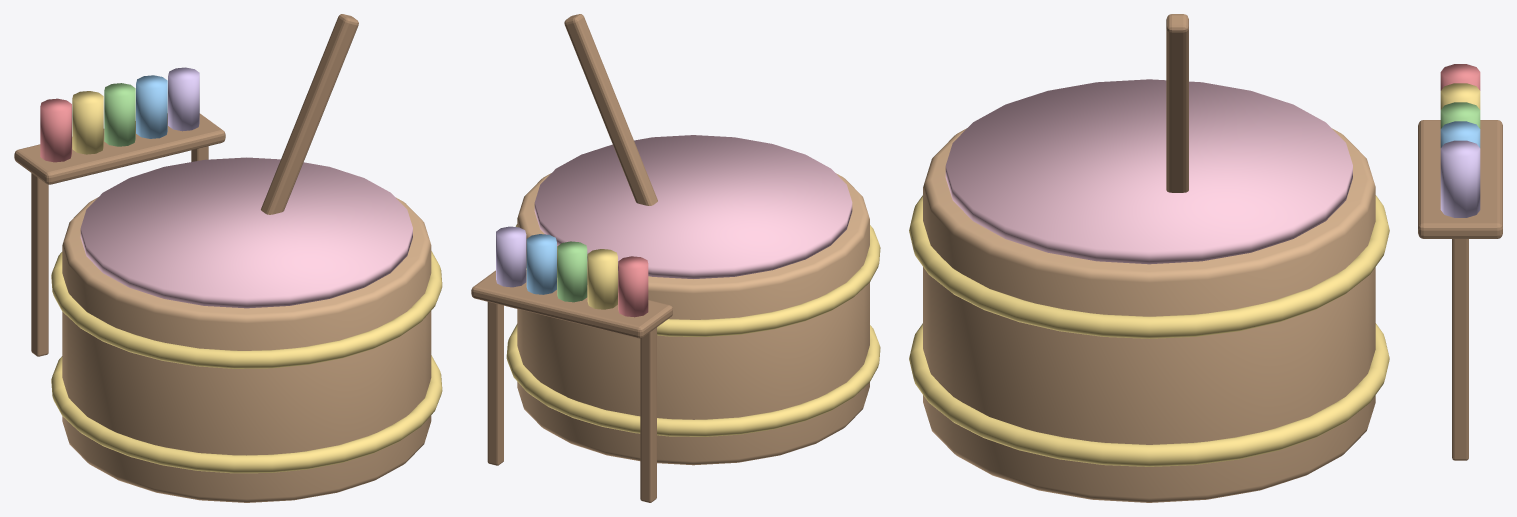
File: dye_vat.glb
The picture shows the model from 3 angles, left to right: view 1: azimuth 30°, elevation 25°; view 2: azimuth 150°, elevation 25°; view 3: azimuth 270°, elevation 25°; orthographic projection. The views are drawn at different scales.
Visible parts, largest first — view 1: dye_vat; view 2: dye_vat; view 3: dye_vat.
Part boxes in pixels (x1,y1,x2,y2): dye_vat: (14,14,442,502); dye_vat: (471,14,880,502); dye_vat: (909,14,1502,502).
Size of the model in its own units: 1.7 by 1.8 by 2.1.
